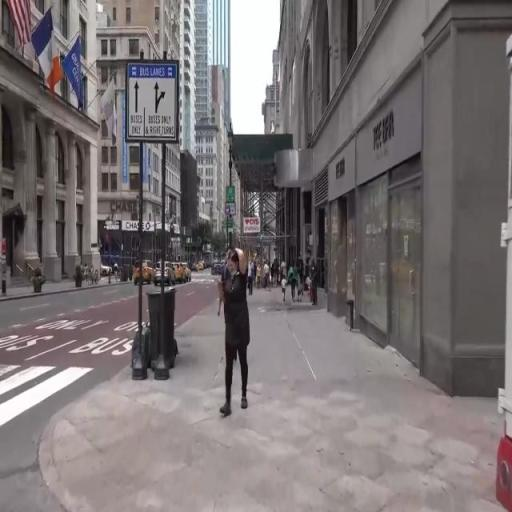person: (223, 248, 256, 415), (290, 262, 299, 308), (282, 276, 290, 308), (265, 259, 272, 293), (300, 275, 307, 307), (249, 256, 254, 295), (258, 261, 263, 293), (274, 258, 279, 289), (283, 260, 288, 280)
